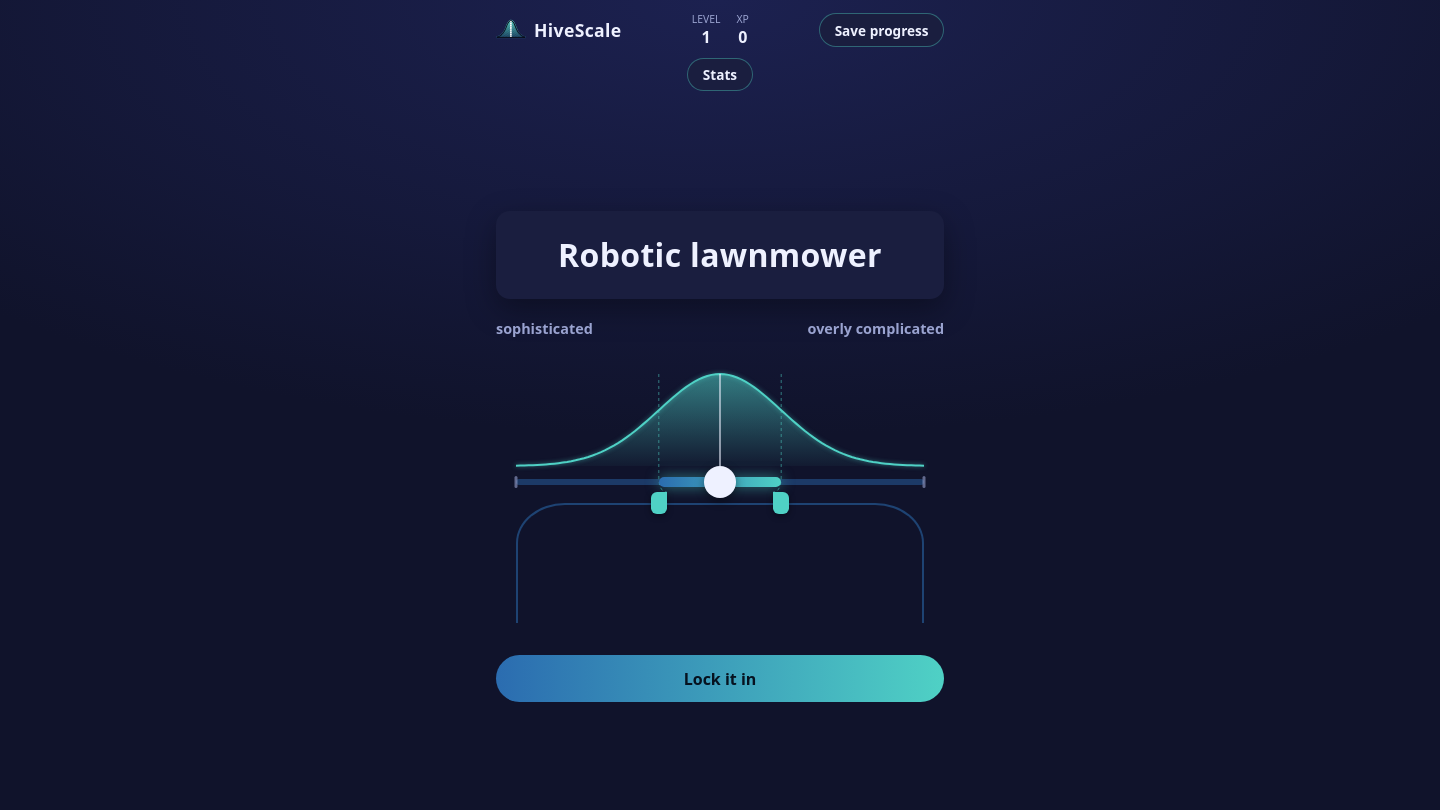
Test: PlayScreen › shows the pioneer payload on an ungraduated pairing
Click the button "Lock it in" at (720,679), box [496, 655, 944, 702]
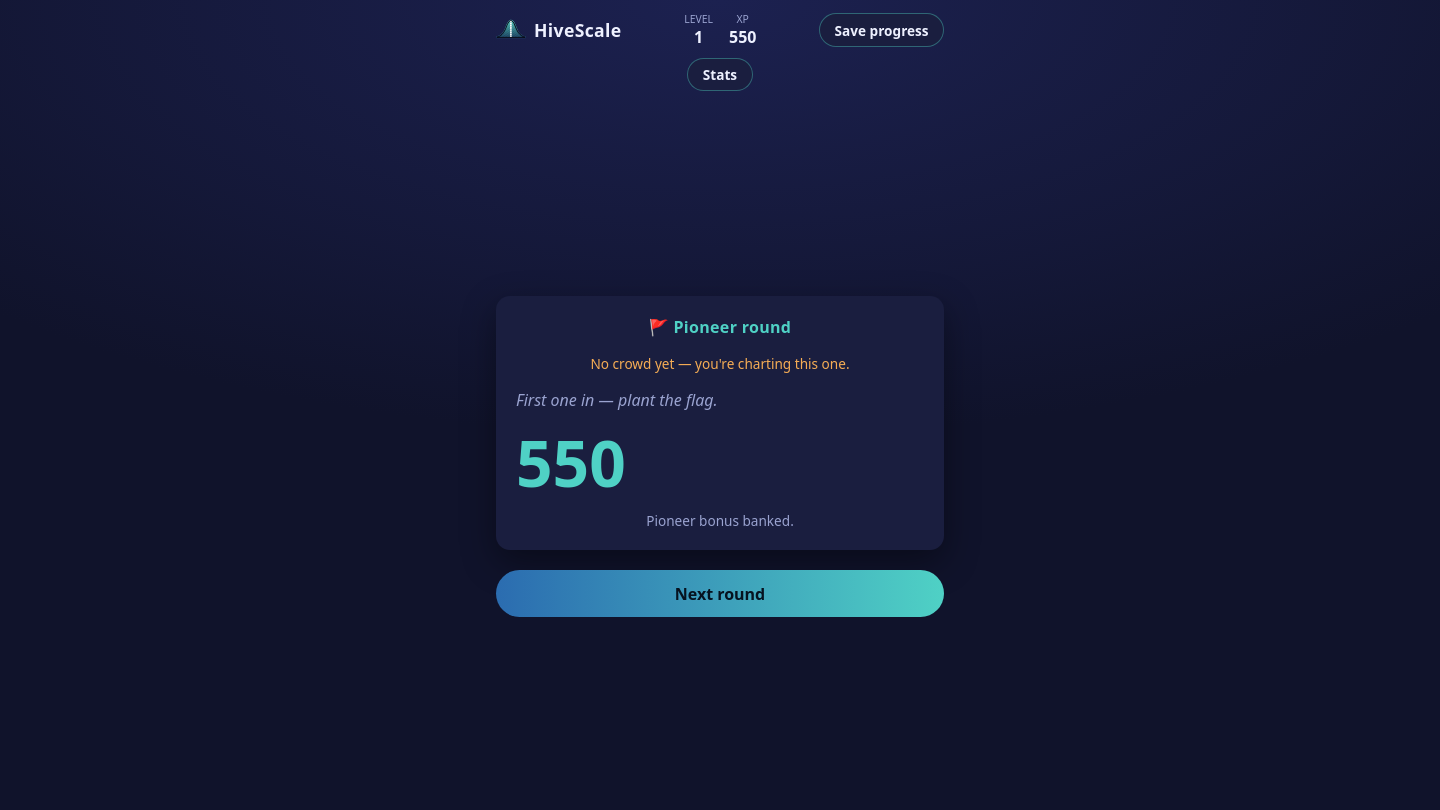
Expected: the text "🚩 Pioneer round" is shown, [649, 316, 791, 338]
Expected: the text with test id "reveal-score-total" reads "550", [516, 419, 626, 506]
